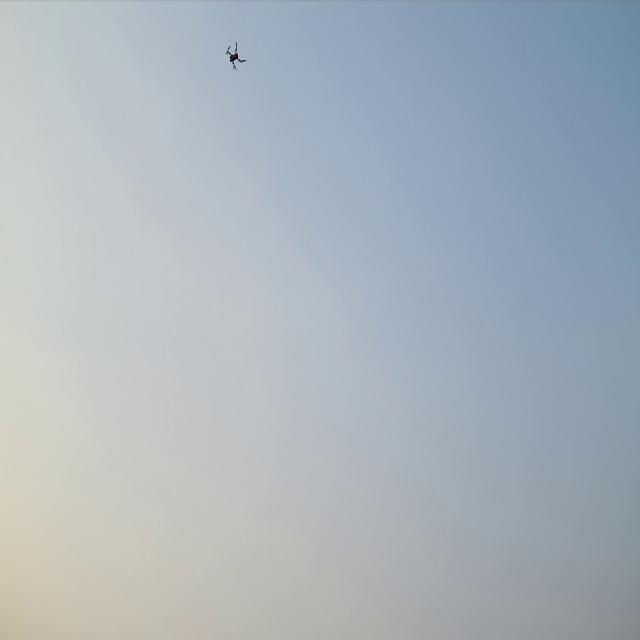UAV: (222, 39, 249, 72)
